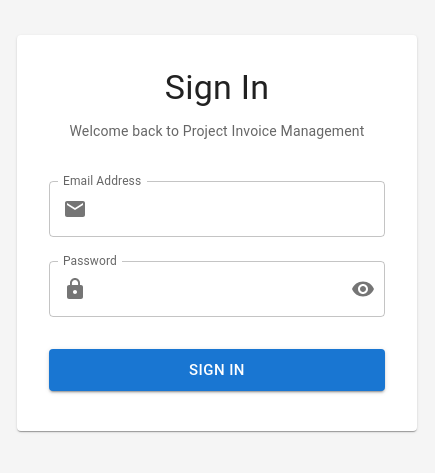
LoginForm › should validate required fields
The width and height of the screenshot is (435, 473).
Expected: the heading "Sign In" is shown, x1=165 y1=67 x2=269 y2=107
Click the button "Sign In": x=217, y=370 x1=49 y1=349 x2=385 y2=391
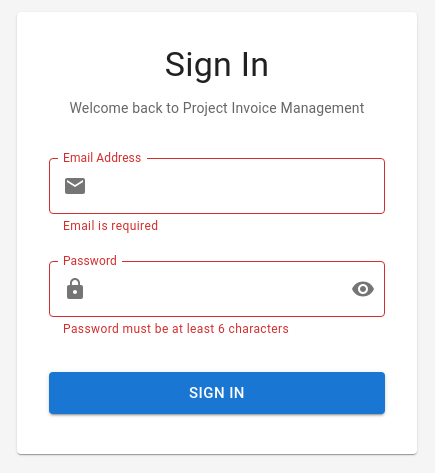
Now the text "Email is required" is shown, box x1=63 y1=219 x2=158 y2=233
Now the text "Password must be at least 6 characters" is shown, box x1=63 y1=322 x2=289 y2=336
